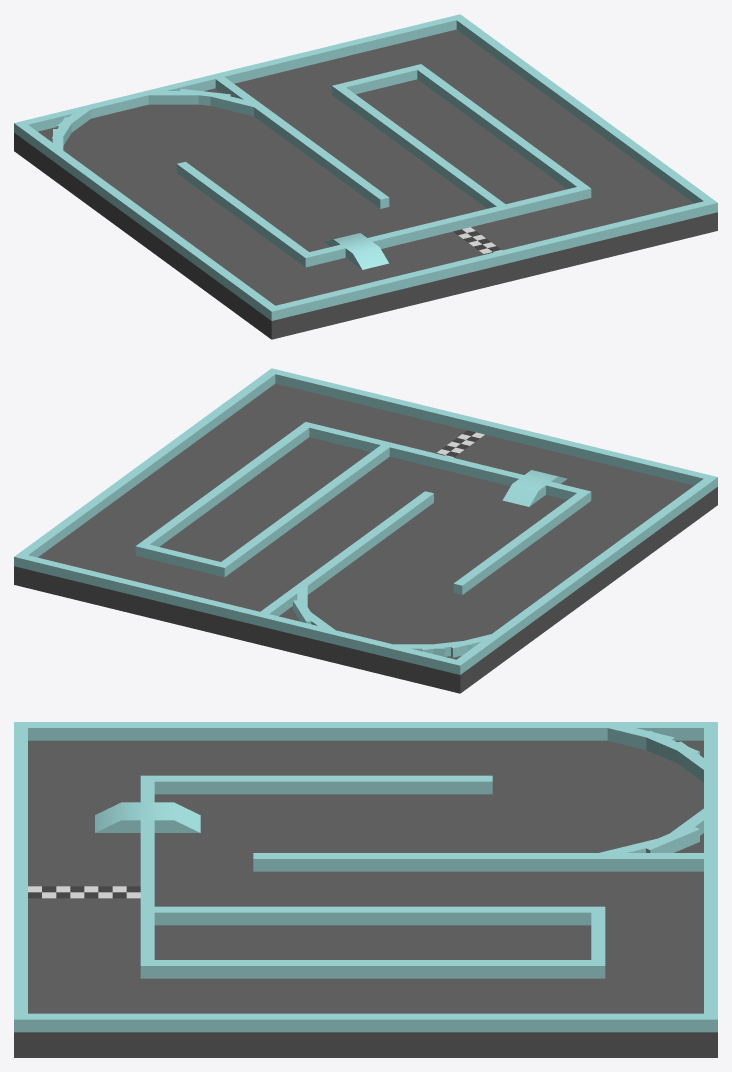
The model's file is Ground10.fbx.
3 renders of one model, top to bottom at view 1: azimuth 30°, elevation 25°; view 2: azimuth 150°, elevation 25°; view 3: azimuth 270°, elevation 25°, orthographic. The views are drawn at different scales.
Parts seen in each view (by area): view 1: pCube183; view 2: pCube183; view 3: pCube183.
Boxes of the visible parts, <box> form: pCube183: <box>14,14,717,339</box>; pCube183: <box>14,368,717,693</box>; pCube183: <box>14,722,717,1057</box>.
Size of the model in its own units: 500 by 30 by 500.
